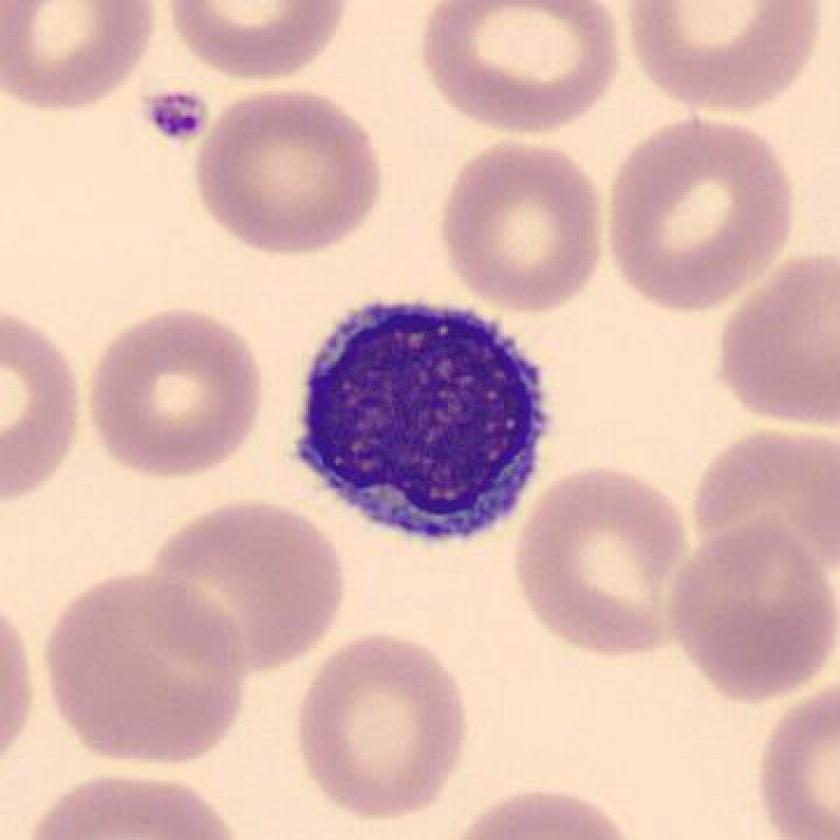lymphocyte: (279, 276, 561, 566)
